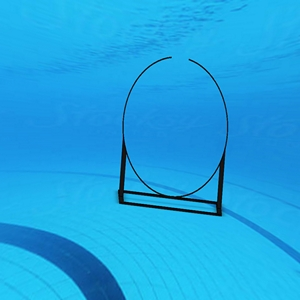circle: (116, 54, 229, 219)
